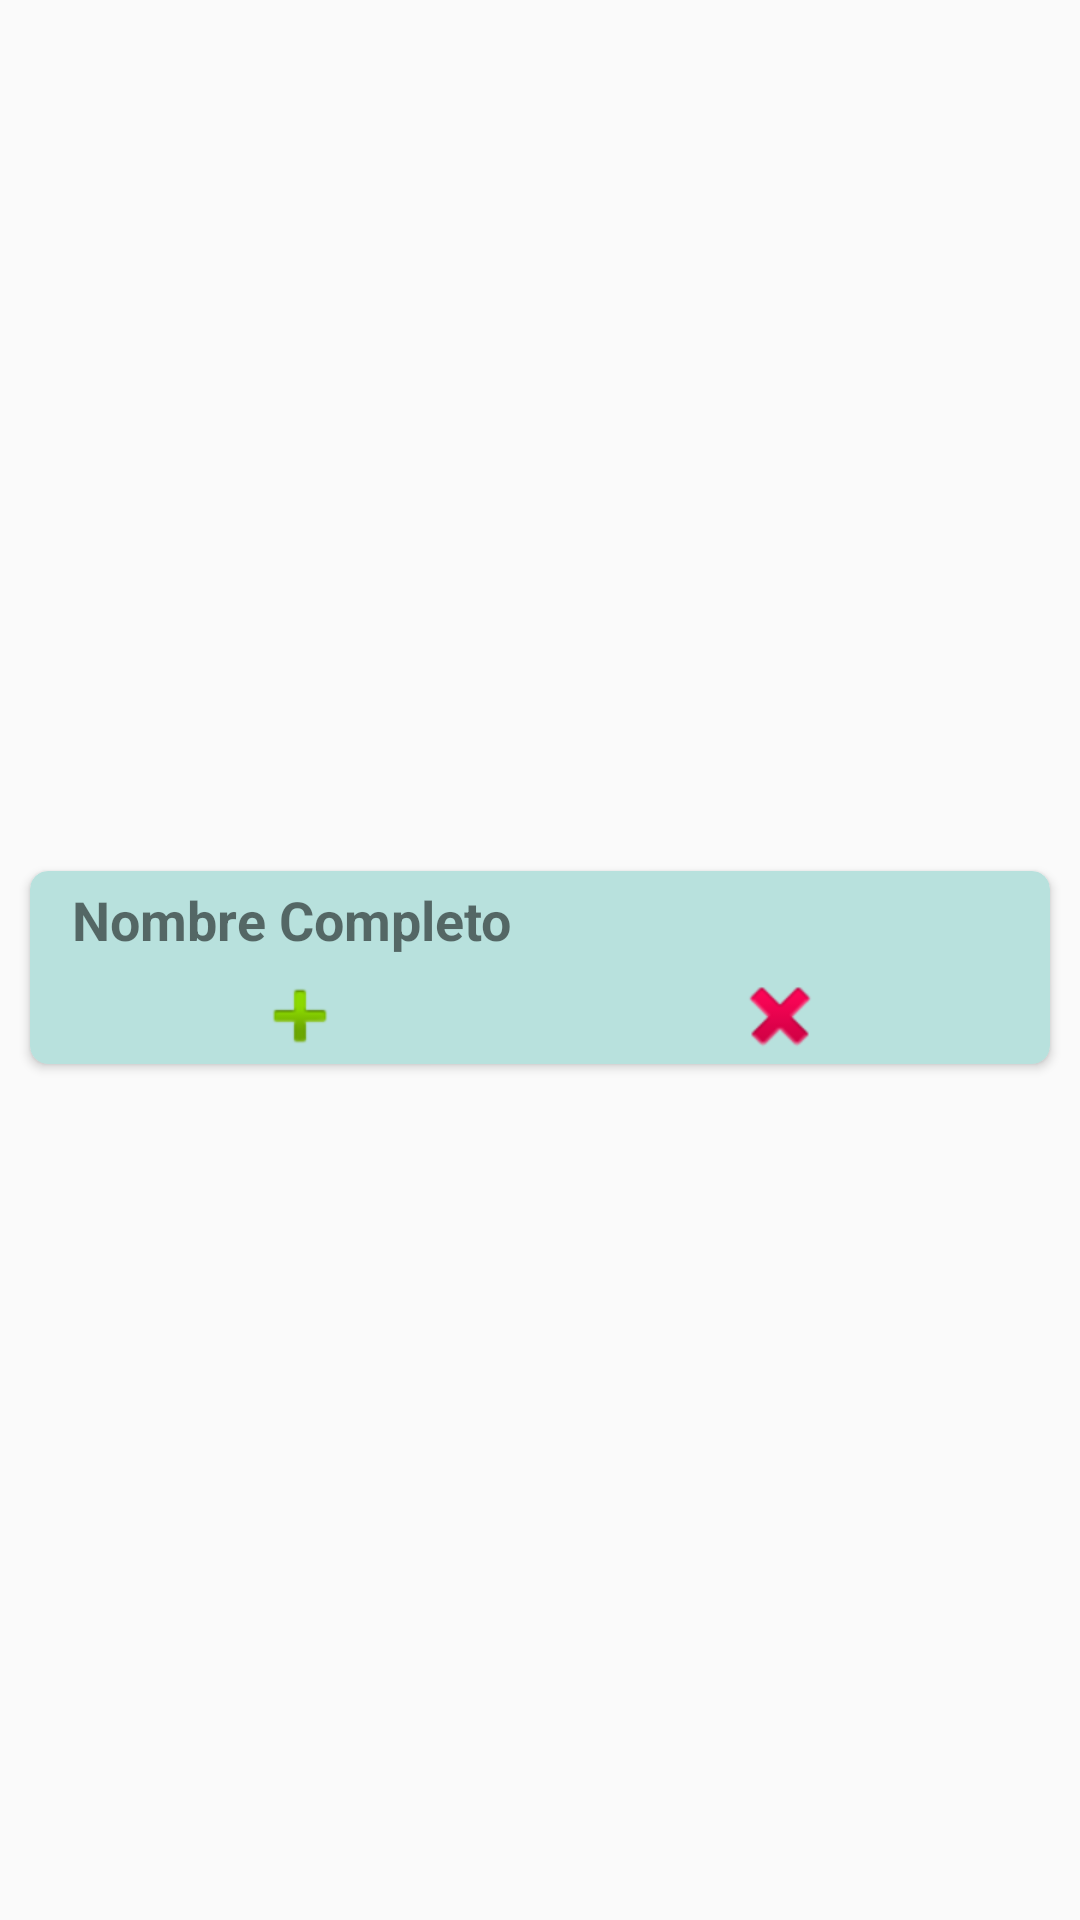

Icons on this 1080 × 1920 Android screen, each with its box as bbox=(x1, y1, x2, y2):
add: bbox=(273, 989, 327, 1043)
delete: bbox=(749, 987, 811, 1046)
